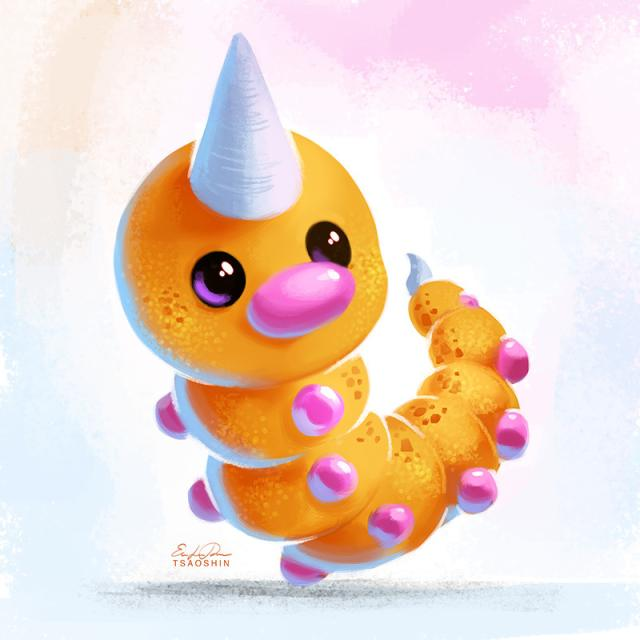Weedle: (106, 36, 534, 564)
